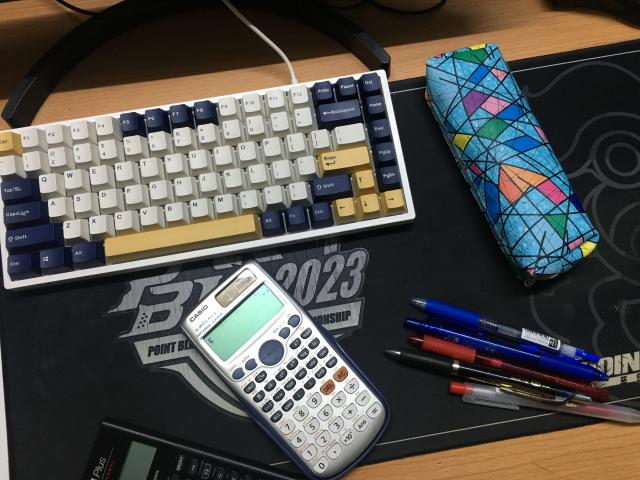Pen: (394, 301, 640, 424)
